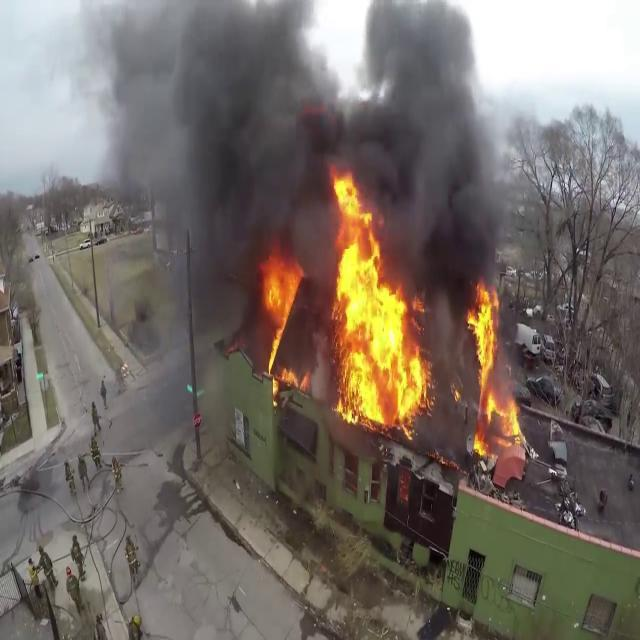Fire: (324, 171, 432, 434), (464, 278, 524, 452), (254, 251, 306, 392)
Smoke: (100, 0, 522, 298)
